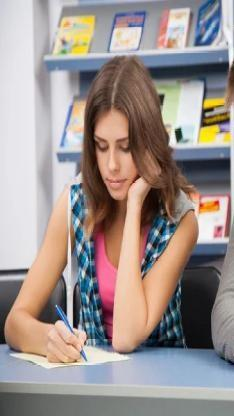good: (0, 50, 205, 375)
